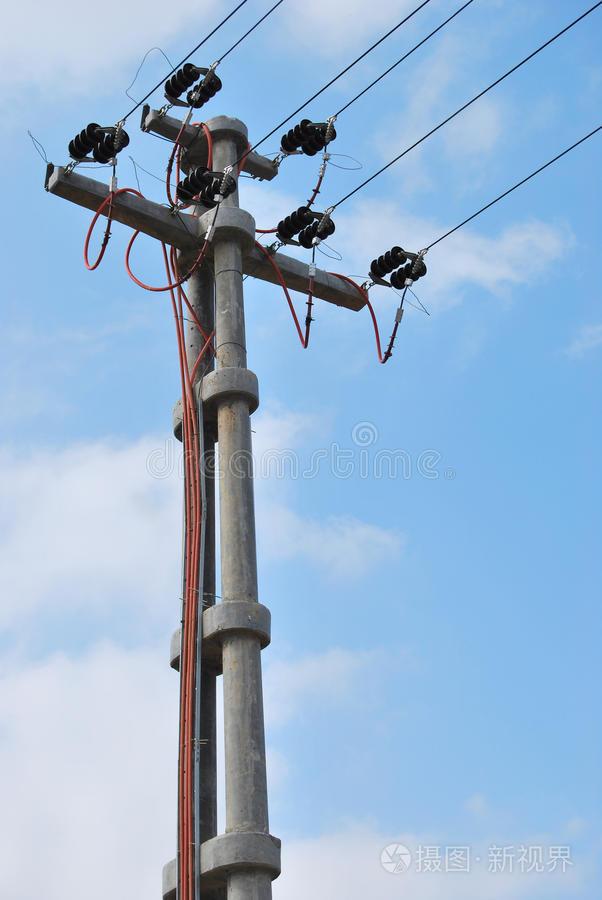insulator: (298, 216, 339, 248), (93, 125, 126, 164), (197, 175, 237, 207), (67, 121, 101, 158), (174, 165, 212, 197), (184, 74, 223, 105), (368, 245, 407, 276), (274, 206, 312, 237), (390, 259, 424, 292), (161, 61, 195, 93), (279, 119, 314, 150), (302, 125, 334, 154)
